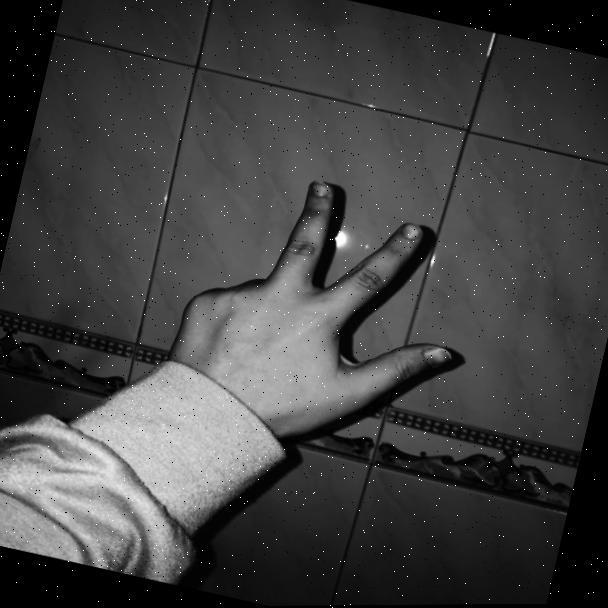three: (154, 152, 502, 485)
